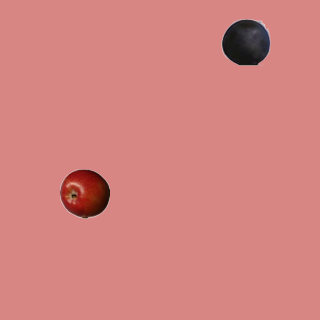Apple Braeburn: (59, 168, 109, 218)
Grape Blue: (220, 16, 270, 66)
